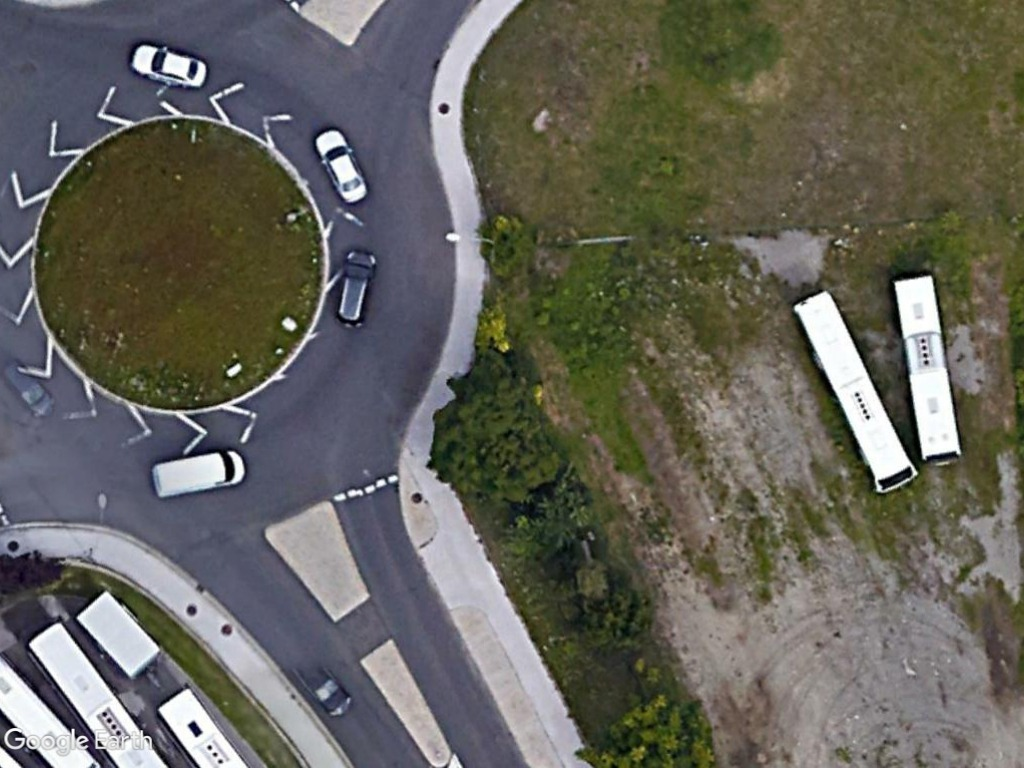bus: (788, 287, 920, 497), (890, 271, 960, 469)
car: (310, 126, 372, 207), (125, 41, 212, 94), (332, 246, 378, 330)
van: (147, 445, 250, 503)
